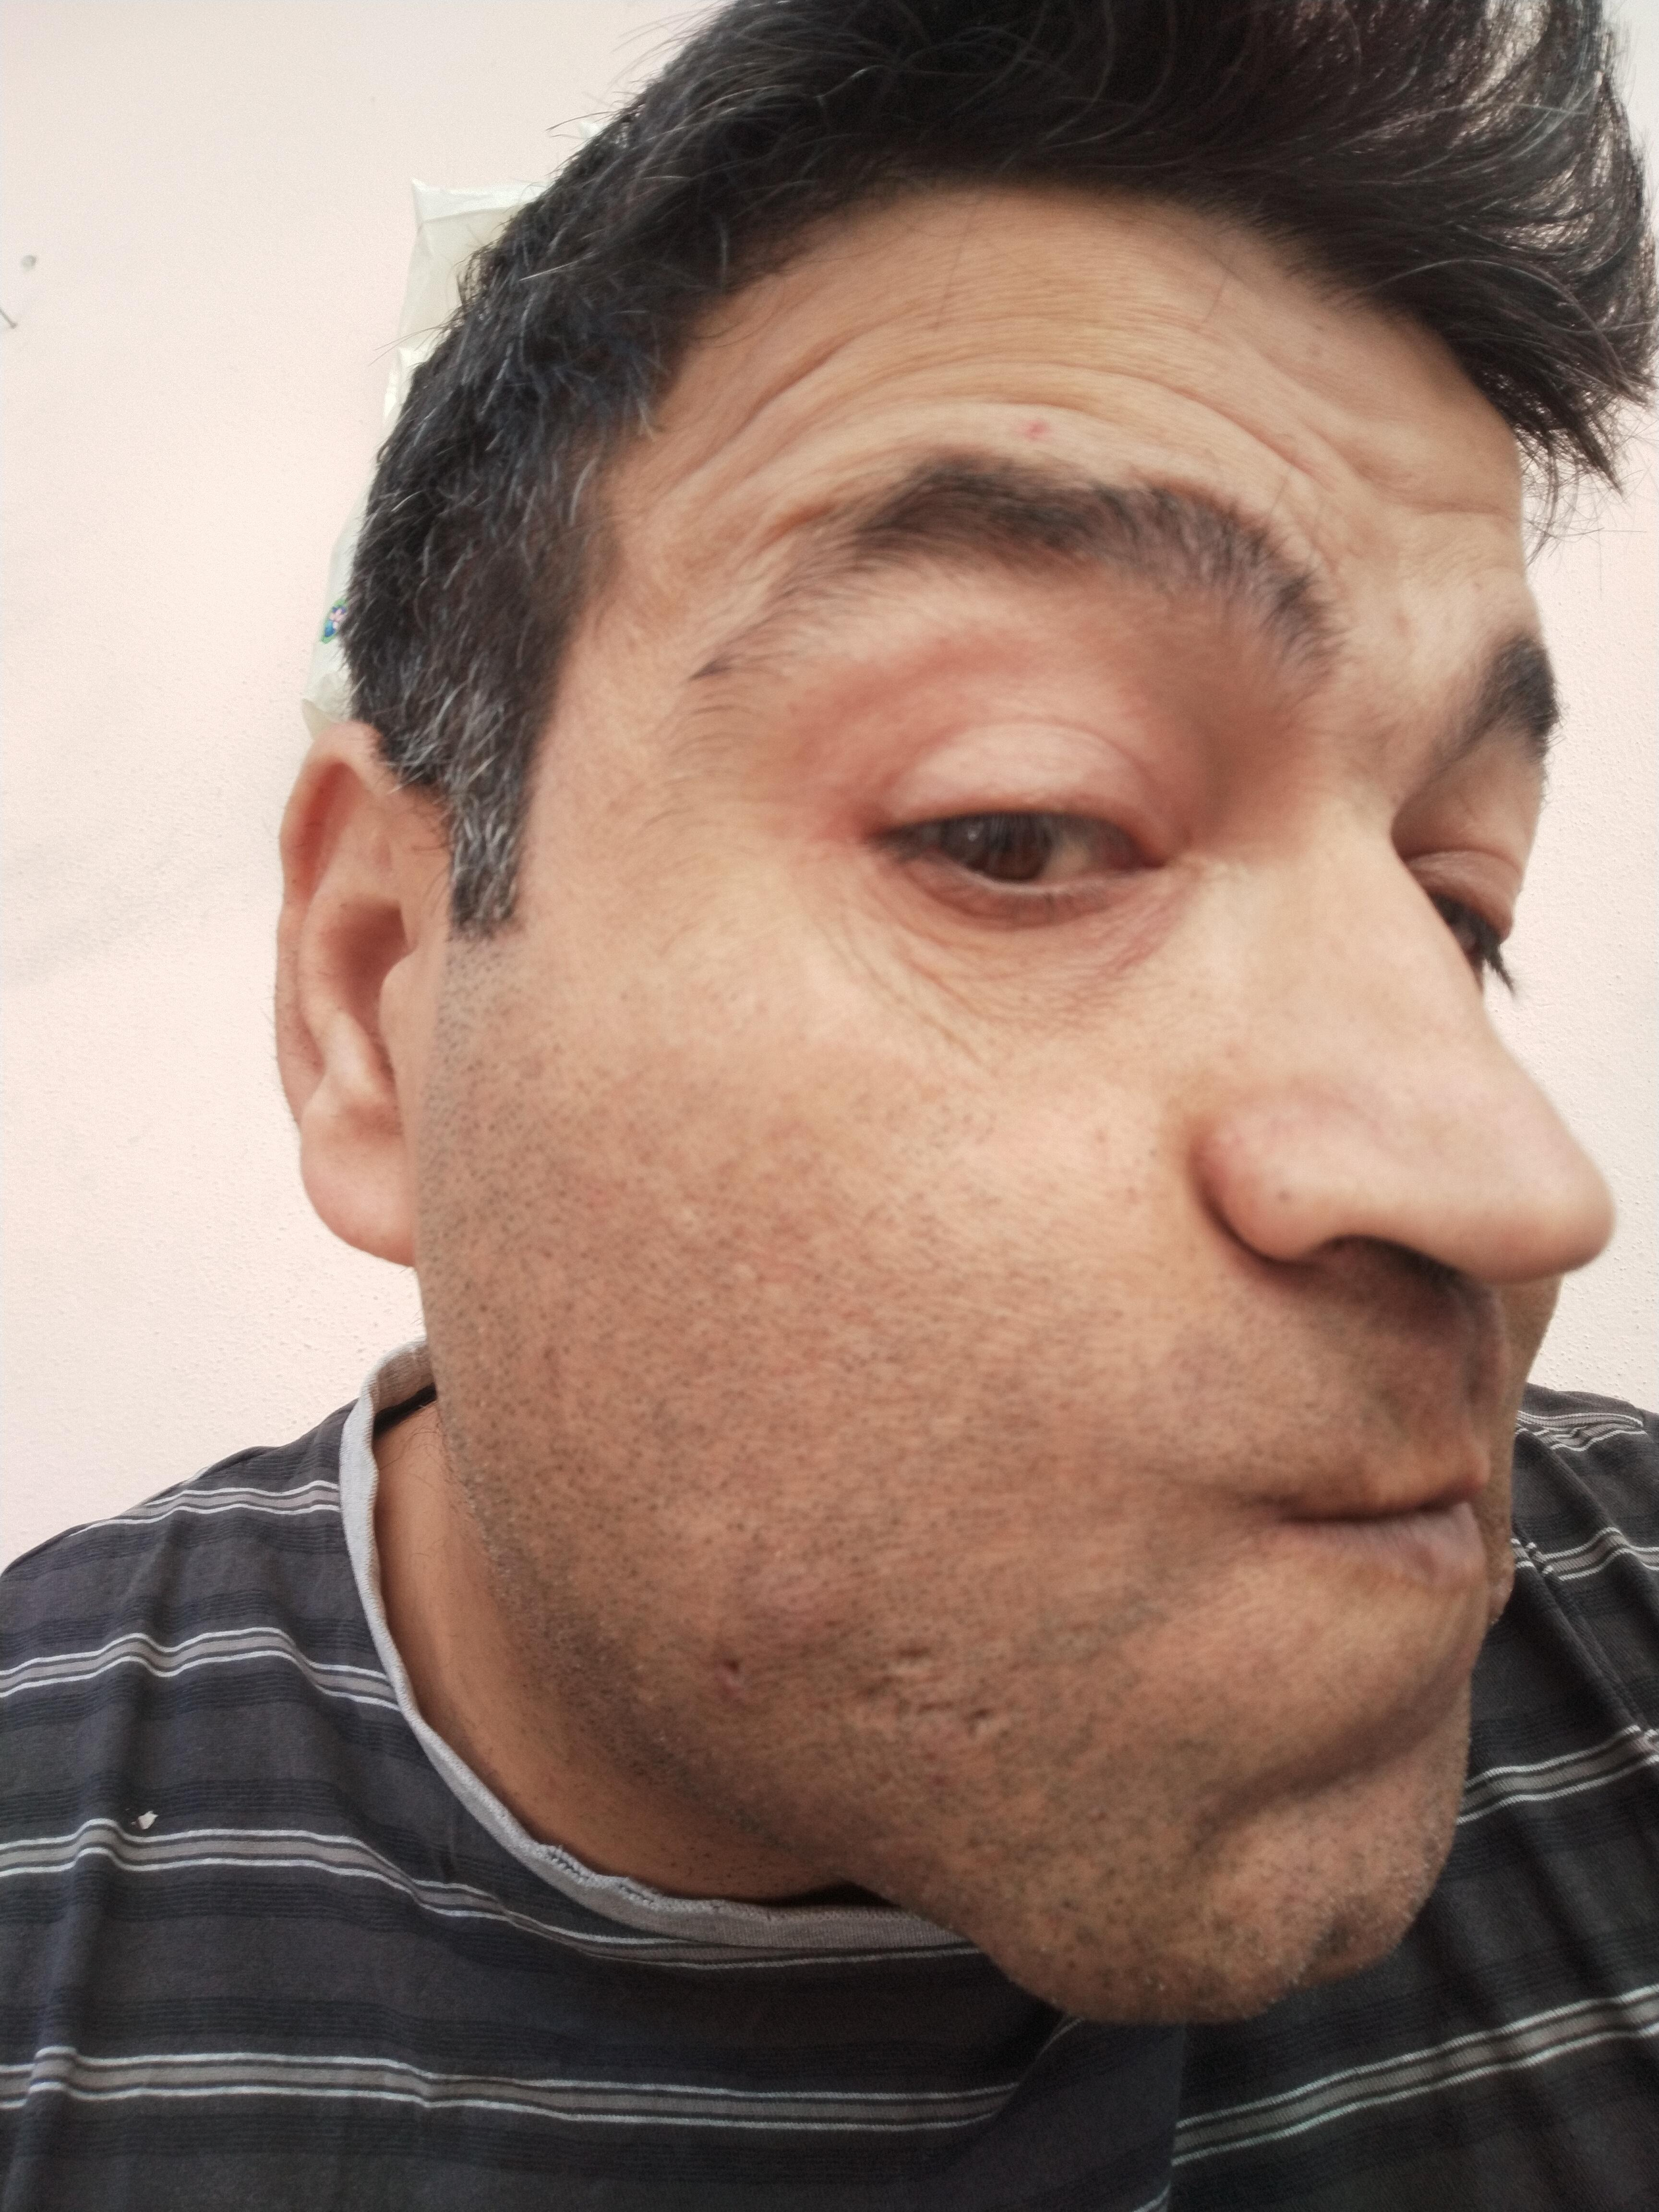Acne: (842, 1629, 1030, 1768), (1009, 402, 1068, 448)
Blackheads: (1068, 1103, 1182, 1224)
Eyebags: (842, 860, 1229, 1008)
Wrinkles: (634, 307, 901, 498), (831, 909, 1133, 1076), (730, 439, 897, 585), (889, 352, 1180, 418), (1312, 437, 1520, 514), (1175, 385, 1323, 474), (1274, 498, 1359, 592)
